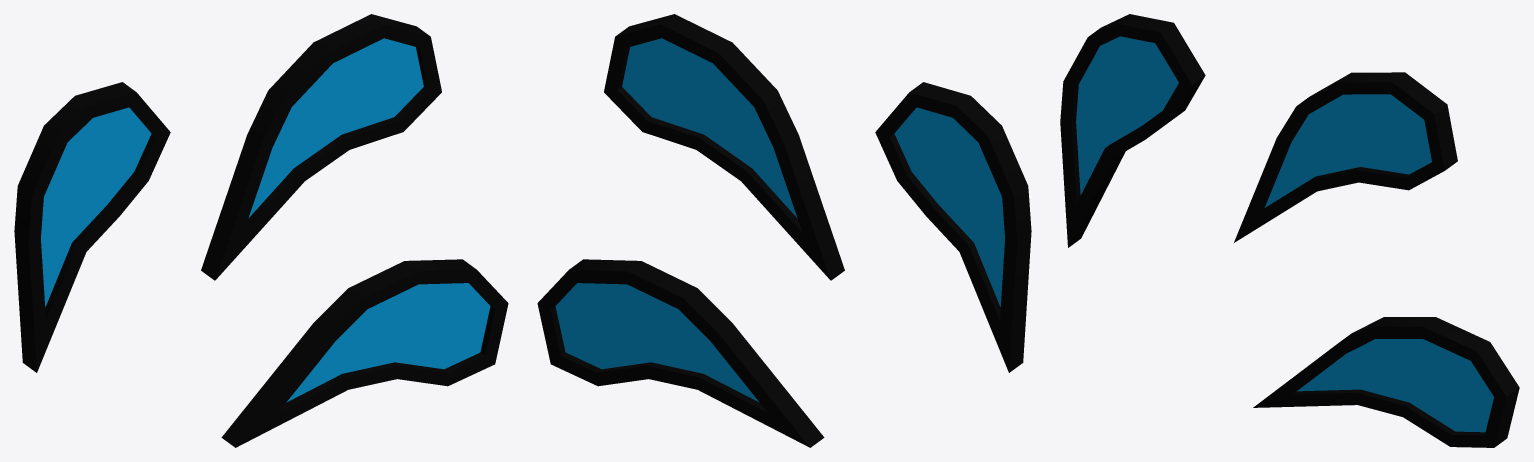
File: Sweat_001.FBX
3 renders of one model, left to right at view 1: azimuth 30°, elevation 25°; view 2: azimuth 150°, elevation 25°; view 3: azimuth 330°, elevation 25°, orthographic. The views are drawn at different scales.
Parts seen in each view (by area): view 1: Sweat_001; view 2: Sweat_001; view 3: Sweat_001.
Boxes of the visible parts, left/top/right/bottom form: Sweat_001: left=14, top=14, right=508, bottom=447; Sweat_001: left=537, top=14, right=1031, bottom=447; Sweat_001: left=1060, top=14, right=1519, bottom=447.
Size of the model in its own units: 78.29 by 4 by 60.32.
